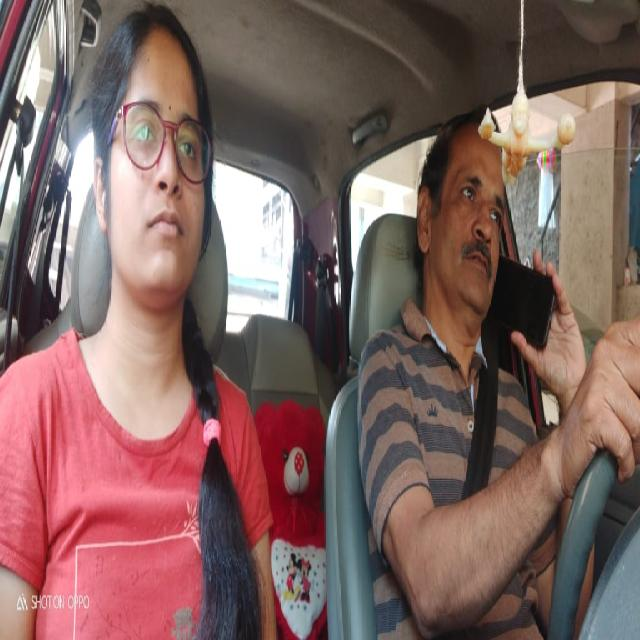mobile: (497, 243, 558, 356)
person: (86, 12, 227, 321), (418, 121, 500, 318)
